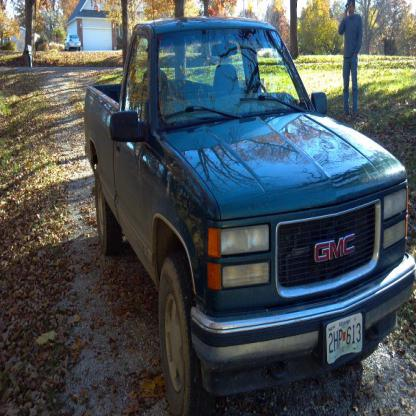Car: (64, 33, 80, 51)
Truck: (84, 0, 415, 415)
